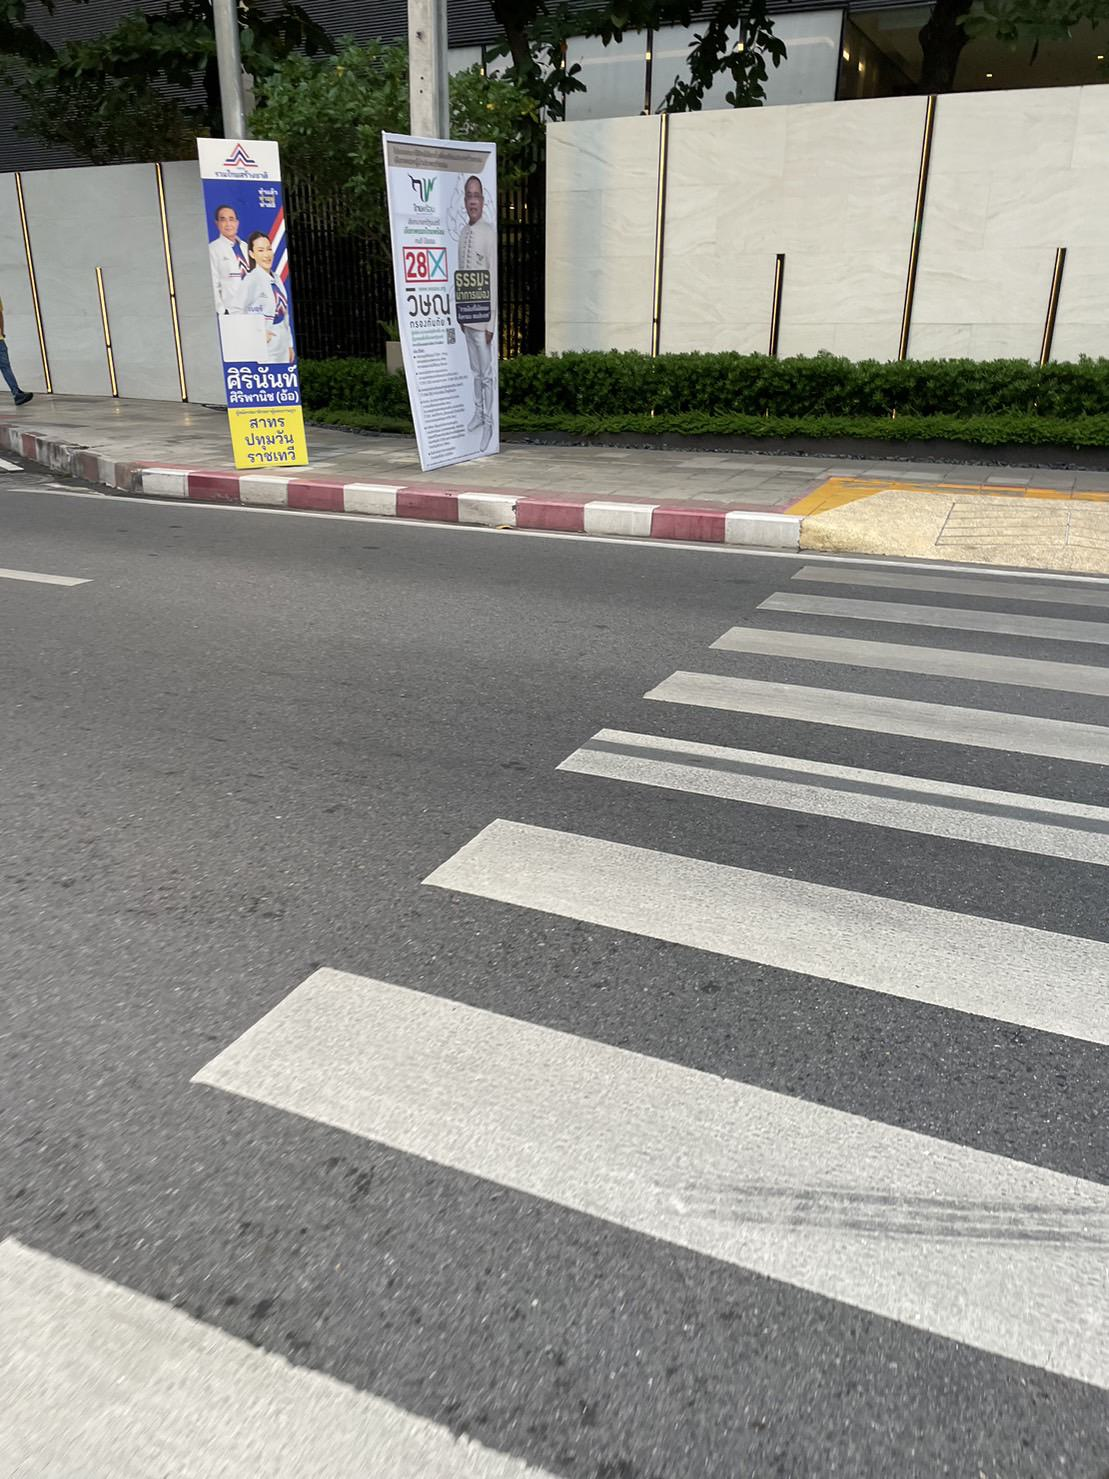Banner: (193, 134, 316, 472), (384, 136, 503, 463)
